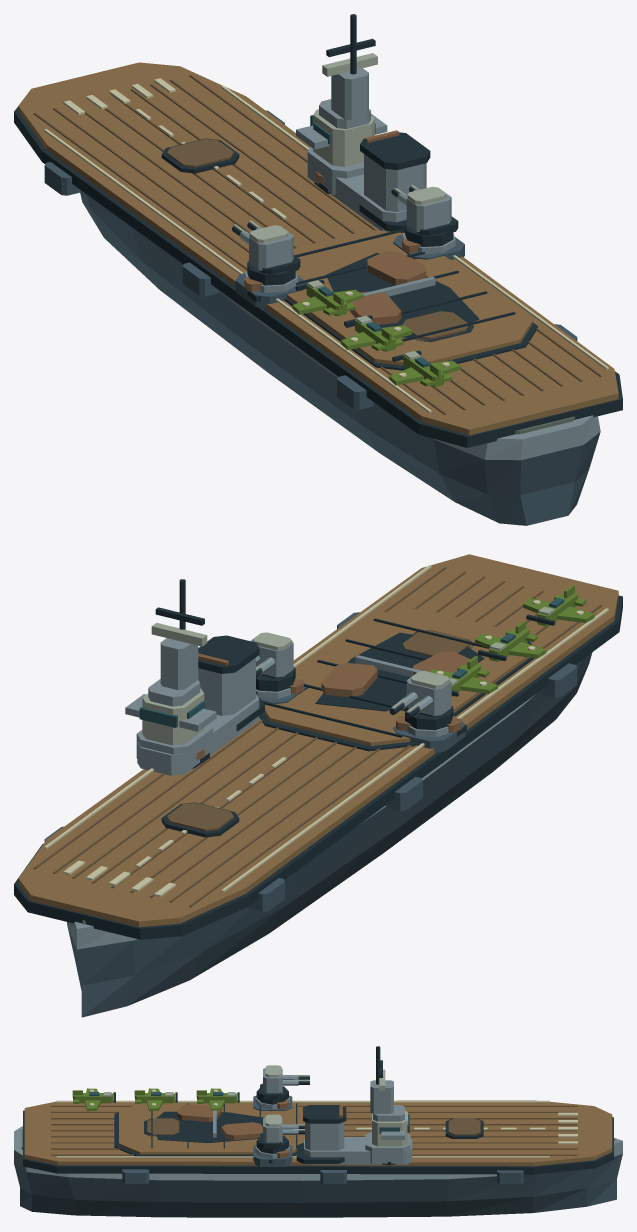
File: historic-commencement-bay.glb
3 renders of one model, top to bottom at view 1: azimuth 30°, elevation 25°; view 2: azimuth 150°, elevation 25°; view 3: azimuth 270°, elevation 25°, orthographic. The views are drawn at different scales.
Parts seen in each view (by area): view 1: historic-commencement-bay-historic-commencement-bay-geometry, historic-commencement-bay-part_flight-deck.029-geometry, historic-commencement-bay-part_bridge.087-geometry, historic-commencement-bay-ruin_flight-deck.028-geometry, historic-commencement-bay-historic_funnel_0.085-geometry, historic-commencement-bay-turret_aa_aa-port.091-geometry, historic-commencement-bay-turret_aa_aa-starboard.087-geometr, historic-commencement-bay-aircraft_lift_0.029-geometry, historic-commencement-bay-parked_aircraft_0.029-geometry, historic-commencement-bay-parked_aircraft_1.029-geometry, historic-commencement-bay-parked_aircraft_2.029-geometry, historic-commencement-bay-aircraft_lift_1.028-geometry (+2 smaller); view 2: historic-commencement-bay-historic-commencement-bay-geometry, historic-commencement-bay-part_flight-deck.029-geometry, historic-commencement-bay-part_bridge.087-geometry, historic-commencement-bay-historic_funnel_0.085-geometry, historic-commencement-bay-ruin_flight-deck.028-geometry, historic-commencement-bay-turret_aa_aa-port.091-geometry, historic-commencement-bay-turret_aa_aa-starboard.087-geometr, historic-commencement-bay-aircraft_lift_0.029-geometry, historic-commencement-bay-parked_aircraft_0.029-geometry, historic-commencement-bay-parked_aircraft_1.029-geometry, historic-commencement-bay-parked_aircraft_2.029-geometry, historic-commencement-bay-aircraft_lift_1.028-geometry (+1 smaller); view 3: historic-commencement-bay-historic-commencement-bay-geometry, historic-commencement-bay-part_flight-deck.029-geometry, historic-commencement-bay-historic_funnel_0.085-geometry, historic-commencement-bay-part_bridge.087-geometry, historic-commencement-bay-ruin_flight-deck.028-geometry, historic-commencement-bay-turret_aa_aa-port.091-geometry, historic-commencement-bay-turret_aa_aa-starboard.087-geometr, historic-commencement-bay-aircraft_lift_0.029-geometry, historic-commencement-bay-parked_aircraft_0.029-geometry, historic-commencement-bay-parked_aircraft_1.029-geometry, historic-commencement-bay-parked_aircraft_2.029-geometry, historic-commencement-bay-aircraft_lift_1.028-geometry (+2 smaller).
Part boxes in pixels (x1,y1,x2,y2): historic-commencement-bay-historic-commencement-bay-geometry: (14, 62, 622, 525); historic-commencement-bay-part_flight-deck.029-geometry: (284, 229, 537, 370); historic-commencement-bay-part_bridge.087-geometry: (296, 14, 387, 194); historic-commencement-bay-ruin_flight-deck.028-geometry: (326, 251, 479, 337); historic-commencement-bay-historic_funnel_0.085-geometry: (308, 130, 430, 232); historic-commencement-bay-turret_aa_aa-port.091-geometry: (231, 220, 300, 285); historic-commencement-bay-turret_aa_aa-starboard.087-geometr: (391, 185, 458, 246); historic-commencement-bay-aircraft_lift_0.029-geometry: (161, 138, 239, 173); historic-commencement-bay-parked_aircraft_0.029-geometry: (389, 350, 460, 386); historic-commencement-bay-parked_aircraft_1.029-geometry: (341, 315, 412, 351); historic-commencement-bay-parked_aircraft_2.029-geometry: (292, 280, 363, 316); historic-commencement-bay-aircraft_lift_1.028-geometry: (402, 311, 474, 342); historic-commencement-bay-historic-commencement-bay-geometry: (14, 554, 622, 1017); historic-commencement-bay-part_flight-deck.029-geometry: (259, 608, 534, 751); historic-commencement-bay-part_bridge.087-geometry: (125, 579, 216, 771); historic-commencement-bay-historic_funnel_0.085-geometry: (137, 635, 264, 775); historic-commencement-bay-ruin_flight-deck.028-geometry: (315, 632, 484, 711); historic-commencement-bay-turret_aa_aa-port.091-geometry: (389, 671, 453, 730); historic-commencement-bay-turret_aa_aa-starboard.087-geometr: (250, 632, 295, 691); historic-commencement-bay-aircraft_lift_0.029-geometry: (161, 802, 239, 837); historic-commencement-bay-parked_aircraft_0.029-geometry: (523, 585, 594, 626); historic-commencement-bay-parked_aircraft_1.029-geometry: (475, 620, 546, 661); historic-commencement-bay-parked_aircraft_2.029-geometry: (430, 656, 497, 696); historic-commencement-bay-aircraft_lift_1.028-geometry: (402, 630, 474, 656); historic-commencement-bay-historic-commencement-bay-geometry: (14, 1100, 622, 1217); historic-commencement-bay-part_flight-deck.029-geometry: (114, 1103, 304, 1156); historic-commencement-bay-historic_funnel_0.085-geometry: (296, 1105, 412, 1164); historic-commencement-bay-part_bridge.087-geometry: (365, 1046, 410, 1163); historic-commencement-bay-ruin_flight-deck.028-geometry: (156, 1104, 263, 1142); historic-commencement-bay-turret_aa_aa-port.091-geometry: (256, 1065, 309, 1104); historic-commencement-bay-turret_aa_aa-starboard.087-geometr: (256, 1114, 304, 1153); historic-commencement-bay-aircraft_lift_0.029-geometry: (445, 1118, 483, 1138); historic-commencement-bay-parked_aircraft_0.029-geometry: (72, 1088, 115, 1111); historic-commencement-bay-parked_aircraft_1.029-geometry: (134, 1088, 177, 1111); historic-commencement-bay-parked_aircraft_2.029-geometry: (196, 1088, 239, 1110); historic-commencement-bay-aircraft_lift_1.028-geometry: (144, 1118, 179, 1136).
Size of the model in its own units: 1.67 by 1.92 by 5.89.
